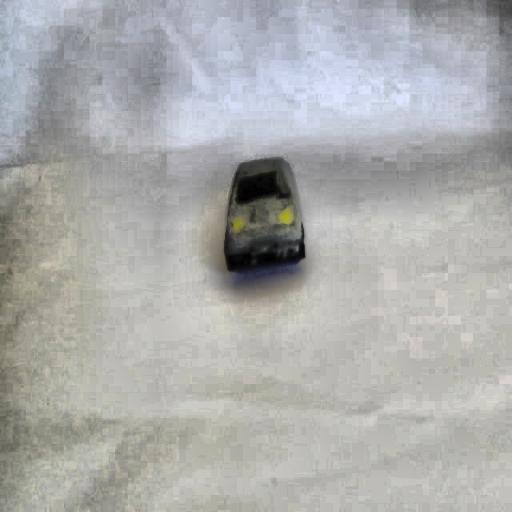normal_car: (219, 154, 308, 274)
